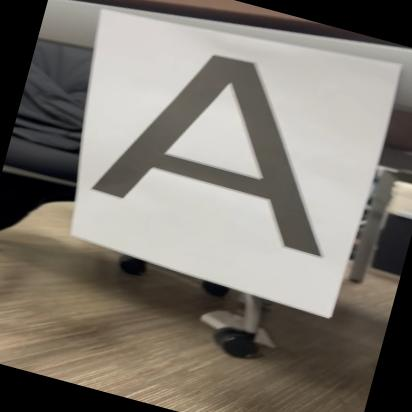seat: (70, 20, 392, 263)
